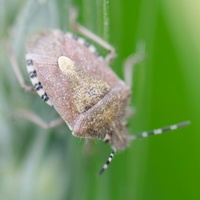insect: (26, 30, 129, 150)
